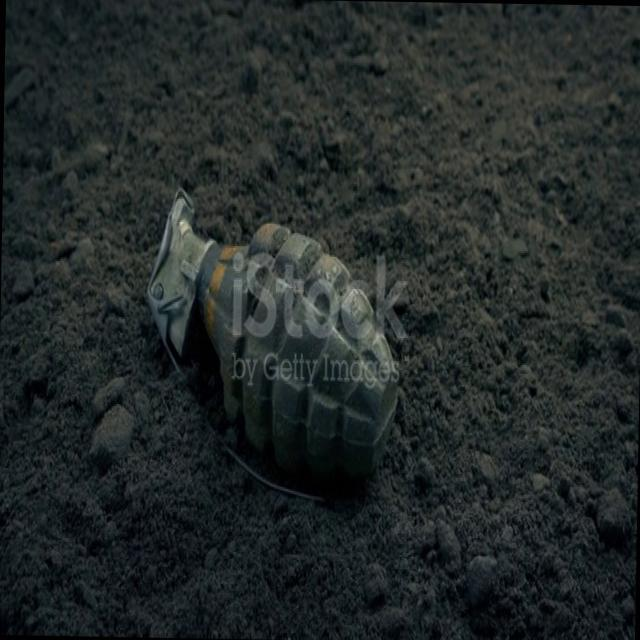grenade: (145, 182, 400, 492)
